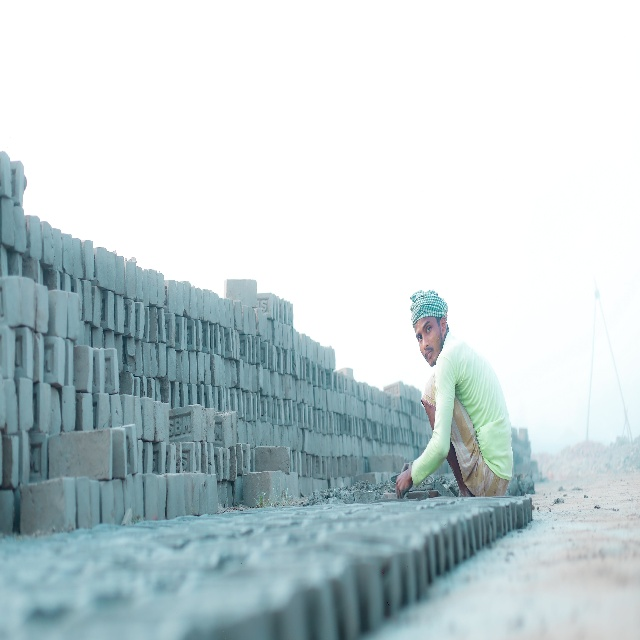Sin_guantes: (395, 462, 415, 500)
